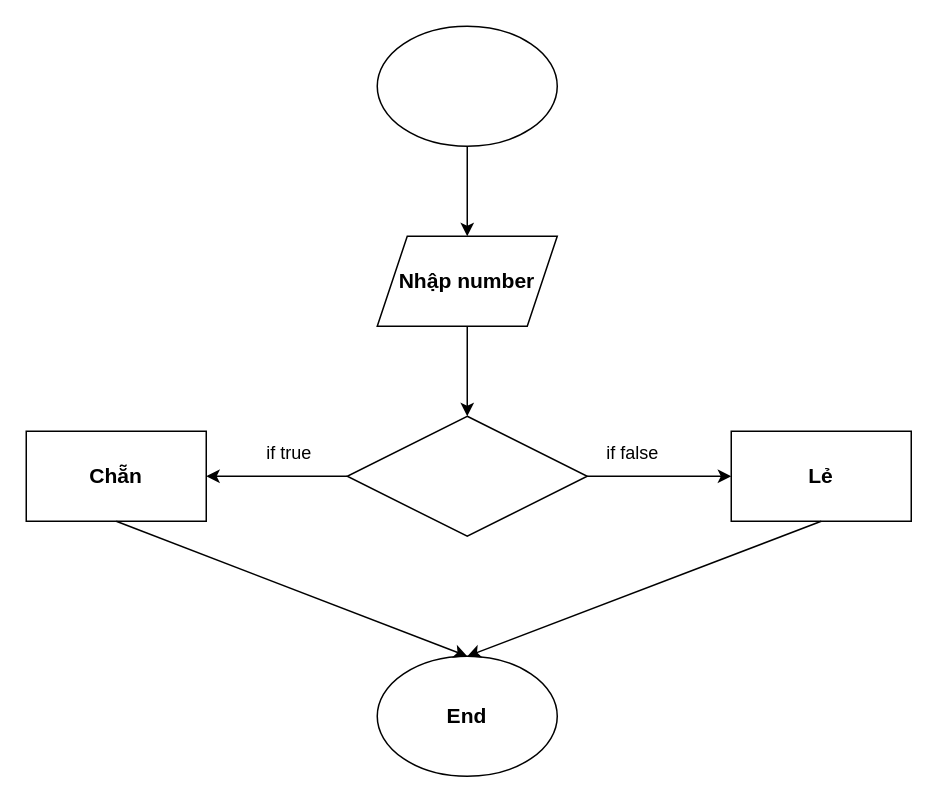
This 938x803 diagram has some shape labels left out. Each missing label, with the centre of its shape:
Number chia 2 = 0: point (466, 475)
Start: point (466, 85)
